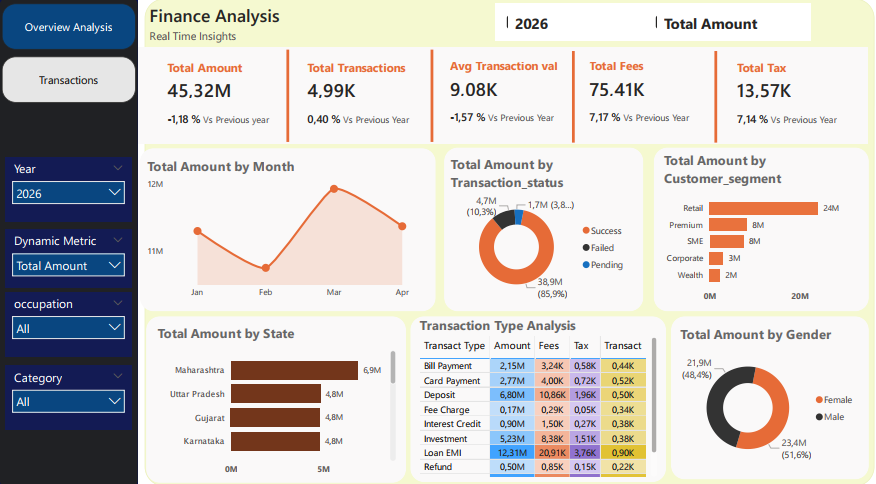

What the dashboard file says about the page in this screenshot:
{"tool":"powerbi","page":{"name":"Overview Analysis","canvas":[1280,720],"ordinal":0},"visuals":[{"type":"shape","box":[222.4,5.9,1058,708.3],"z":0},{"type":"shape","box":[212.2,76.1,1058,140],"z":1000},{"type":"shape","box":[11.7,5.9,200.5,708.3],"z":2000},{"type":"cardVisual","fields":{"Data":["finance_transactions.Dashboard title"]},"box":[212.2,5.9,302.9,70.2],"z":3000},{"type":"cardVisual","fields":{"Data":["finance_transactions.Total Amount"]},"box":[235.6,82,190,133.2],"z":5000},{"type":"slicer","fields":{"Values":["Calendar Table.Year"]},"box":[20.5,235.6,182.9,93.7],"z":6000},{"type":"cardVisual","fields":{"Data":["finance_transactions.Avg Transaction val"]},"box":[646,80.1,193,133.2],"z":7000},{"type":"shape","box":[406.8,80.5,45.4,133.2],"z":8000},{"type":"shape","box":[616.1,80.5,45.4,133.2],"z":9000},{"type":"shape","box":[821,82,45.4,133.2],"z":10000},{"type":"shape","box":[1027.3,82,45.4,133.2],"z":11000},{"type":"cardVisual","fields":{"Data":["finance_transactions.Total Transactions"]},"box":[439,82,192,133.2],"z":12000},{"type":"cardVisual","fields":{"Data":["finance_transactions.Total Fees"]},"box":[848,80.5,194,133.2],"z":13000},{"type":"cardVisual","fields":{"Data":["finance_transactions.Total Tax"]},"box":[1062.4,82,194.6,133.2],"z":14000},{"type":"slicer","fields":{"Values":["Dynamic Metric.Dynamic Metric"]},"box":[20.5,341,182.9,84.9],"z":15000},{"type":"shape","box":[215.1,223,429,237],"z":16000},{"type":"shape","box":[223.9,467,377.6,242],"z":17000},{"type":"shape","box":[655.6,222.4,289.8,237.1],"z":18000},{"type":"shape","box":[960,222.4,311.7,237.1],"z":19000},{"type":"areaChart","fields":{"Category":["Calendar Table.Month"],"Y":["finance_transactions.Total Amount"]},"box":[221,235.6,418.5,213.7],"z":20000},{"type":"cardVisual","fields":{"Data":["finance_transactions.Selected Year","finance_transactions.Selected Dynamic Metric"]},"box":[730.2,13.2,458,54.1],"z":21000},{"type":"donutChart","title":"Total Amount by Transaction_status","fields":{"Category":["finance_transactions.transaction_status"],"Y":["finance_transactions.Total Amount"]},"box":[661.5,234.1,269.3,215.1],"z":22000},{"type":"barChart","title":"Total Amount by Customer_segment","fields":{"Category":["customers.customer_segment"],"Y":["finance_transactions.Total Amount"]},"box":[970,228,291,227],"z":23000},{"type":"barChart","title":"Total Amount by State","fields":{"Category":["customers.state"],"Y":["finance_transactions.Total Amount"]},"box":[235.6,478.5,355.6,226.8],"z":24000},{"type":"shape","box":[607.3,466.8,371,241.5],"z":25000},{"type":"tableEx","title":"Transaction Type Analysis","fields":{"Values":["finance_transactions.transaction_type","finance_transactions.Total Amount","finance_transactions.Total Fees","finance_transactions.Total Tax","finance_transactions.Total Transactions"]},"box":[616.1,466.8,354.1,238.5],"z":26000},{"type":"shape","box":[985,466.8,287,237.1],"z":27000},{"type":"donutChart","title":"Total Amount by Gender","fields":{"Category":["customers.gender"],"Y":["finance_transactions.Total Amount"]},"box":[993.7,480,269.3,215.1],"z":28000},{"type":"slicer","fields":{"Values":["customers.occupation"]},"box":[20.5,431.7,182.9,93.7],"z":29000},{"type":"slicer","fields":{"Values":["finance_transactions.merchant_category"]},"box":[20.5,538.5,182.9,93.7],"z":30000},{"type":"pageNavigator","box":[14.6,13.2,194.6,144.9],"z":31000}]}

Visuals, with their boxes in screenshot pixels (x1, y1, x2, y2), scaled from the page's 1280x720 canvas onto the 876x484 screenshot:
shape: rect(152, 4, 875, 480)
shape: rect(145, 51, 869, 145)
shape: rect(8, 4, 145, 480)
cardVisual - finance_transactions.Dashboard title: rect(145, 4, 353, 51)
cardVisual - finance_transactions.Total Amount: rect(161, 55, 291, 145)
slicer - Calendar Table.Year: rect(14, 158, 139, 221)
cardVisual - finance_transactions.Avg Transaction val: rect(442, 54, 574, 143)
shape: rect(278, 54, 309, 144)
shape: rect(422, 54, 453, 144)
shape: rect(562, 55, 593, 145)
shape: rect(703, 55, 734, 145)
cardVisual - finance_transactions.Total Transactions: rect(300, 55, 432, 145)
cardVisual - finance_transactions.Total Fees: rect(580, 54, 713, 144)
cardVisual - finance_transactions.Total Tax: rect(727, 55, 860, 145)
slicer - Dynamic Metric.Dynamic Metric: rect(14, 229, 139, 286)
shape: rect(147, 150, 441, 309)
shape: rect(153, 314, 412, 477)
shape: rect(449, 150, 647, 309)
shape: rect(657, 150, 870, 309)
areaChart - Calendar Table.Month x finance_transactions.Total Amount: rect(151, 158, 438, 302)
cardVisual - finance_transactions.Selected Year x finance_transactions.Selected Dynamic Metric: rect(500, 9, 813, 45)
"Total Amount by Transaction_status" donutChart: rect(453, 157, 637, 302)
"Total Amount by Customer_segment" barChart: rect(664, 153, 863, 306)
"Total Amount by State" barChart: rect(161, 322, 405, 474)
shape: rect(416, 314, 670, 476)
"Transaction Type Analysis" tableEx: rect(422, 314, 664, 474)
shape: rect(674, 314, 871, 473)
"Total Amount by Gender" donutChart: rect(680, 323, 864, 467)
slicer - customers.occupation: rect(14, 290, 139, 353)
slicer - finance_transactions.merchant_category: rect(14, 362, 139, 425)
pageNavigator: rect(10, 9, 143, 106)
